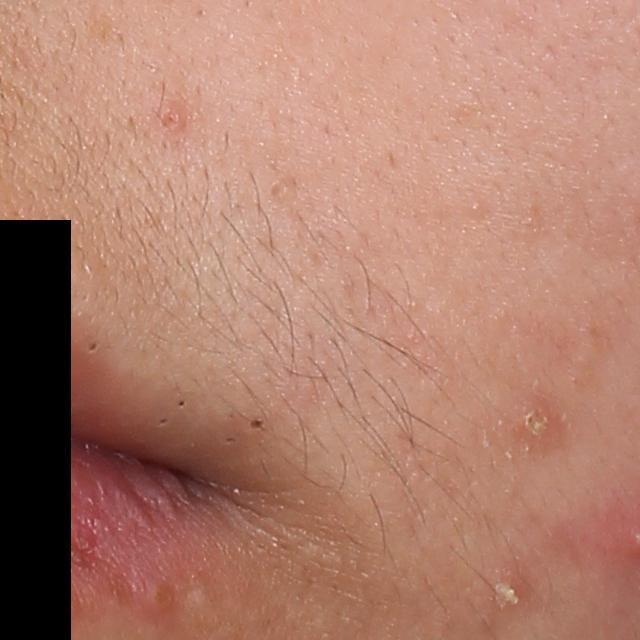comedo: (469, 201, 484, 217), (176, 396, 187, 410), (157, 417, 170, 428)
papule: (158, 103, 189, 131)
pustule: (513, 405, 551, 442), (490, 580, 524, 612)
